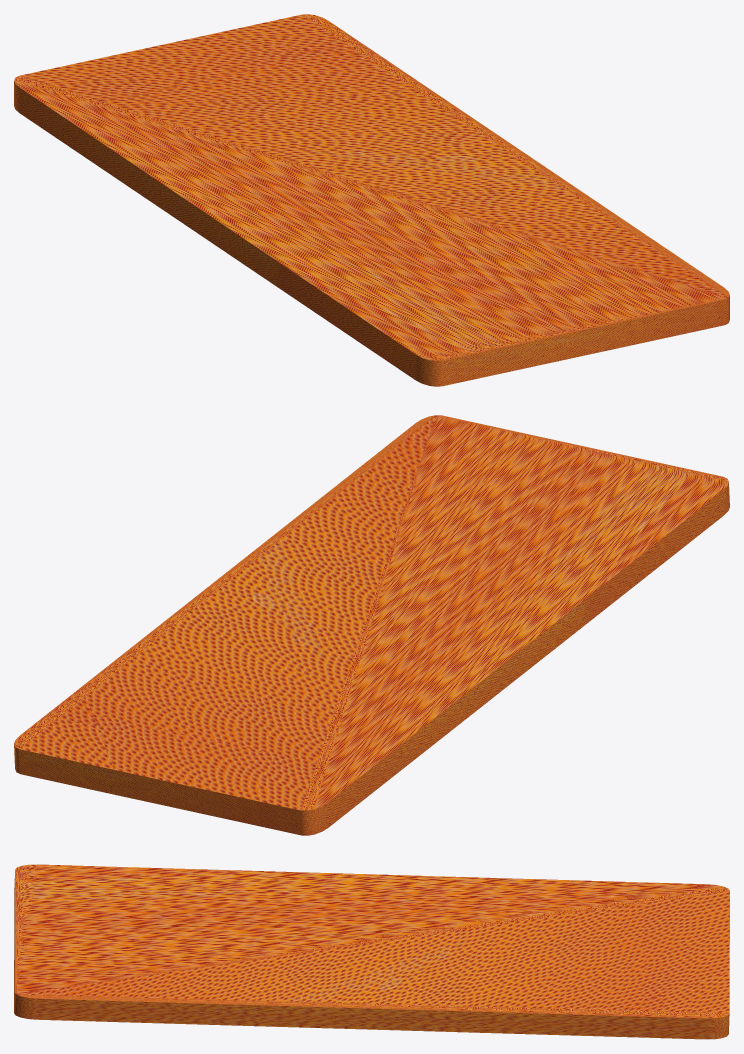
The model's file is Platform.fbx.
3 views of the same model, one above another, from view 1: azimuth 30°, elevation 25°; view 2: azimuth 150°, elevation 25°; view 3: azimuth 270°, elevation 25° (orthographic). The views are drawn at different scales.
Visible parts, largest first — view 1: pCube1; view 2: pCube1; view 3: pCube1.
Part boxes in pixels (box(x1,y1,x2,y2)): pCube1: box(14, 14, 729, 386); pCube1: box(14, 415, 729, 835); pCube1: box(14, 864, 729, 1039).
Size of the model in its own units: 31.7 by 5.65 by 75.16.
1 material, 1 textured.
